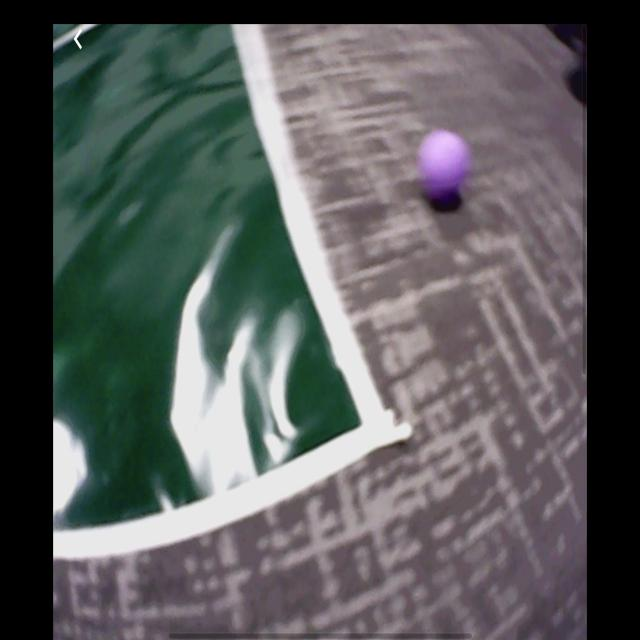ball: (417, 127, 472, 209)
